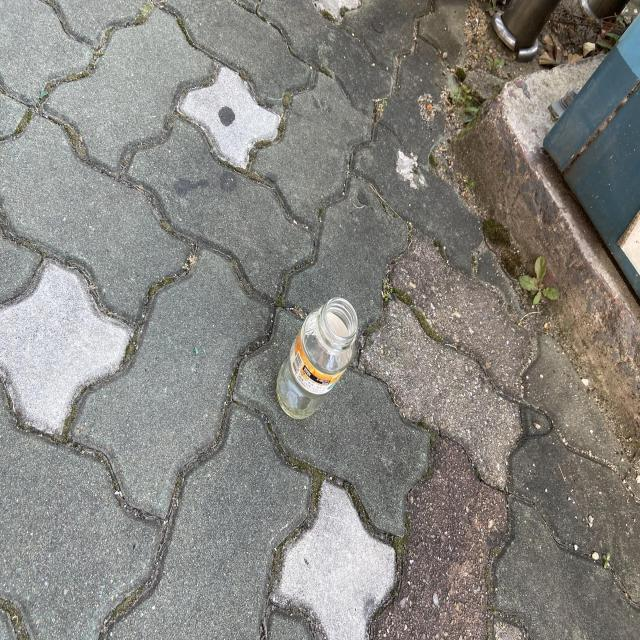glass: (276, 297, 358, 419)
